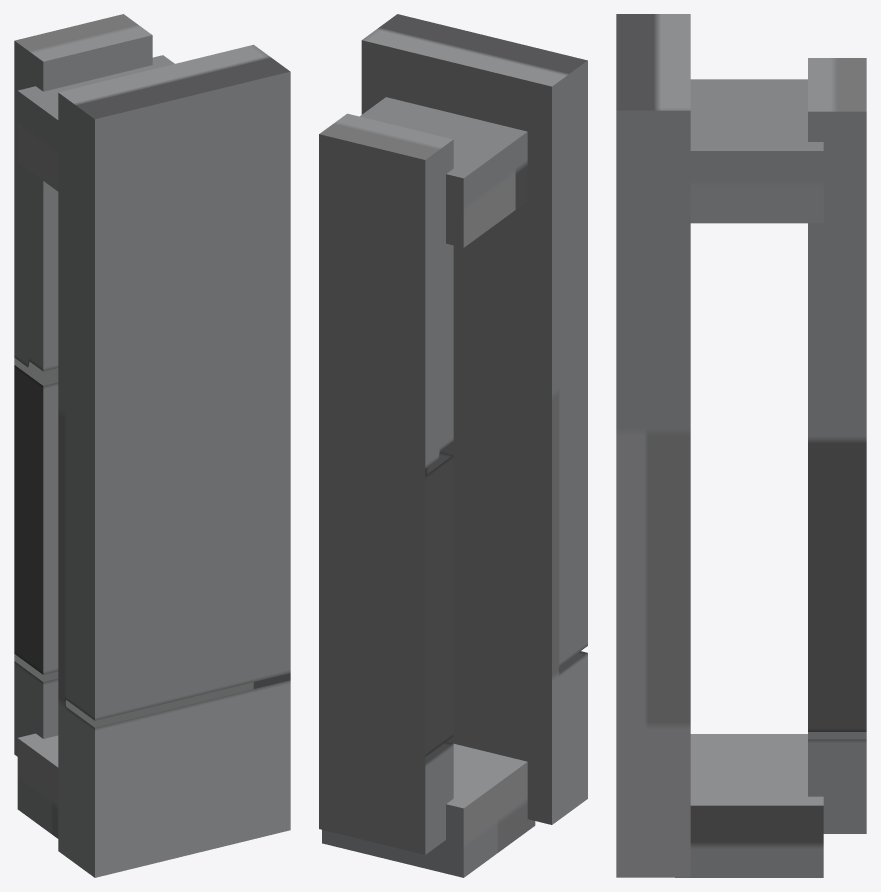
3 views of the same model, side by side, from view 1: azimuth 30°, elevation 25°; view 2: azimuth 150°, elevation 25°; view 3: azimuth 270°, elevation 25° (orthographic). The views are drawn at different scales.
Bounding box in the file's own units: 0.215 × 0.81 × 0.2355.
